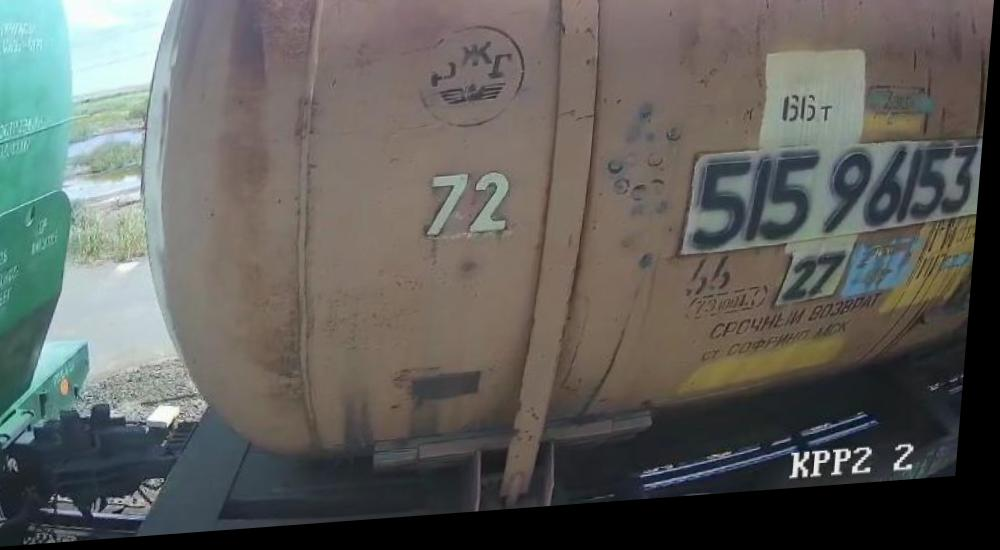Wagon-number: (691, 146, 986, 267)
